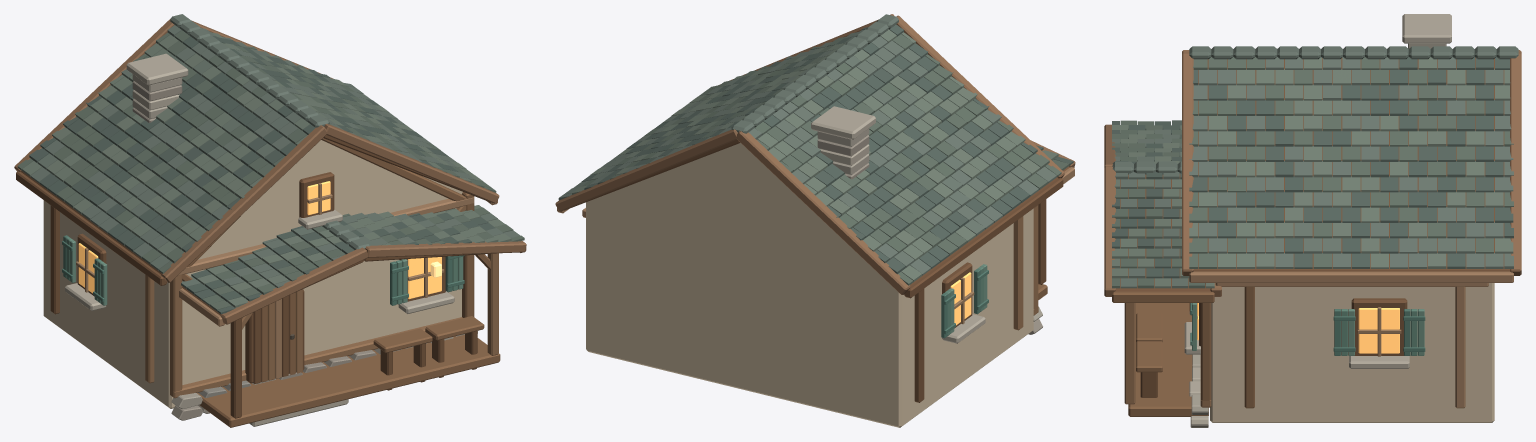
File: craft.glb
3 views of the same model, side by side, from view 1: azimuth 30°, elevation 25°; view 2: azimuth 150°, elevation 25°; view 3: azimuth 270°, elevation 25° (orthographic). The views are drawn at different scales.
Visible parts, largest first — view 1: craft Warm limewash 02, craft Slate green shingles 03, craft Slate green shingles 01, craft Slate green shingles 04, craft Oiled oak 02, craft Slate green shingles 02, craft Oak end grain 01, craft Oiled oak 01, craft Oiled oak 03, craft Warm slate 03, craft Oiled oak 04, craft Honey glass 01 (+6 smaller); view 2: craft Warm limewash 02, craft Slate green shingles 03, craft Slate green shingles 01, craft Slate green shingles 04, craft Slate green shingles 02, craft Oak end grain 01, craft Oiled oak 01, craft Warm slate 03, craft Oiled oak 03, craft Warm slate 02, craft Weathered sage paint 01, craft Warm slate 01 (+1 smaller); view 3: craft Warm limewash 02, craft Slate green shingles 03, craft Slate green shingles 01, craft Slate green shingles 04, craft Slate green shingles 02, craft Oiled oak 02, craft Oiled oak 01, craft Oak end grain 01, craft Oiled oak 04, craft Warm slate 03, craft Honey glass 01, craft Oiled oak 03 (+5 smaller).
Part boxes in pixels (left/top/right/bottom): craft Warm limewash 02: left=43, top=140, right=462, bottom=408; craft Slate green shingles 03: left=30, top=14, right=519, bottom=288; craft Slate green shingles 01: left=29, top=36, right=495, bottom=314; craft Slate green shingles 04: left=22, top=28, right=511, bottom=307; craft Oiled oak 02: left=182, top=138, right=526, bottom=427; craft Slate green shingles 02: left=17, top=30, right=524, bottom=311; craft Oak end grain 01: left=14, top=19, right=526, bottom=324; craft Oiled oak 01: left=16, top=135, right=496, bottom=418; craft Oiled oak 03: left=145, top=205, right=498, bottom=398; craft Warm slate 03: left=65, top=53, right=454, bottom=426; craft Oiled oak 04: left=167, top=197, right=497, bottom=378; craft Honey glass 01: left=78, top=181, right=441, bottom=299; craft Warm limewash 02: left=586, top=143, right=1033, bottom=427; craft Slate green shingles 03: left=558, top=14, right=1056, bottom=275; craft Slate green shingles 01: left=581, top=24, right=1073, bottom=274; craft Slate green shingles 04: left=572, top=29, right=1058, bottom=281; craft Slate green shingles 02: left=581, top=34, right=1069, bottom=285; craft Oak end grain 01: left=555, top=14, right=1075, bottom=294; craft Oiled oak 01: left=564, top=139, right=1069, bottom=402; craft Warm slate 03: left=811, top=106, right=985, bottom=343; craft Oiled oak 03: left=1013, top=205, right=1038, bottom=330; craft Warm slate 02: left=817, top=128, right=1042, bottom=321; craft Weathered sage paint 01: left=941, top=269, right=988, bottom=338; craft Warm slate 01: left=817, top=135, right=1042, bottom=334; craft Warm limewash 02: left=1210, top=283, right=1494, bottom=422; craft Slate green shingles 03: left=1112, top=46, right=1518, bottom=288; craft Slate green shingles 01: left=1112, top=57, right=1513, bottom=278; craft Slate green shingles 04: left=1112, top=57, right=1513, bottom=288; craft Slate green shingles 02: left=1112, top=57, right=1513, bottom=288; craft Oiled oak 02: left=1112, top=283, right=1254, bottom=416; craft Oiled oak 01: left=1115, top=57, right=1509, bottom=397; craft Oak end grain 01: left=1104, top=50, right=1521, bottom=296; craft Oiled oak 04: left=1189, top=271, right=1513, bottom=408; craft Warm slate 03: left=1184, top=14, right=1451, bottom=427; craft Honey glass 01: left=1197, top=303, right=1399, bottom=353; craft Oiled oak 03: left=1124, top=303, right=1211, bottom=407.
Bounding box in the file's own units: 6.75 × 5.09 × 6.46.
